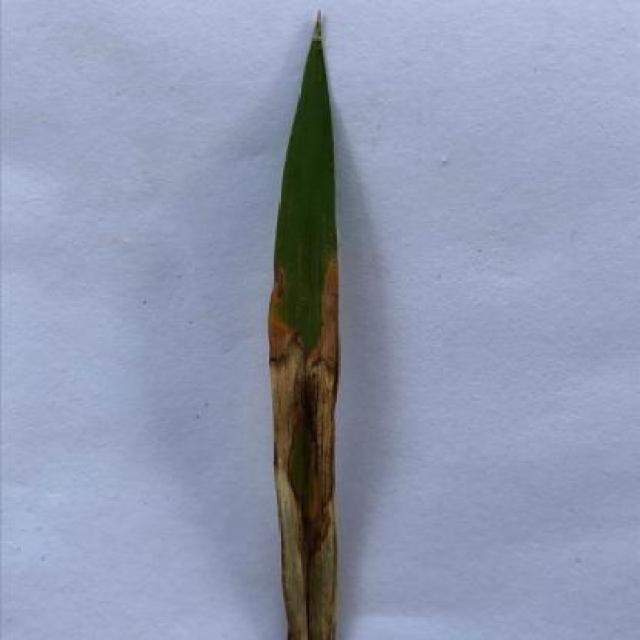Brown_Spot: (260, 4, 349, 640)
